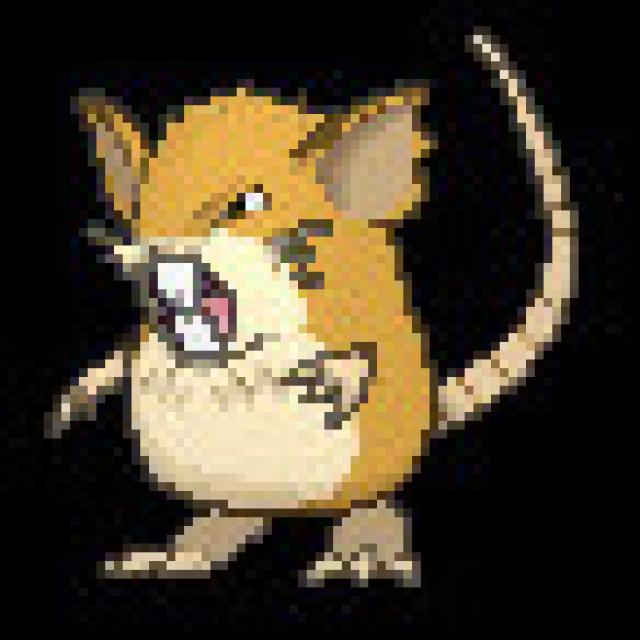Raticate: (61, 69, 490, 592)
